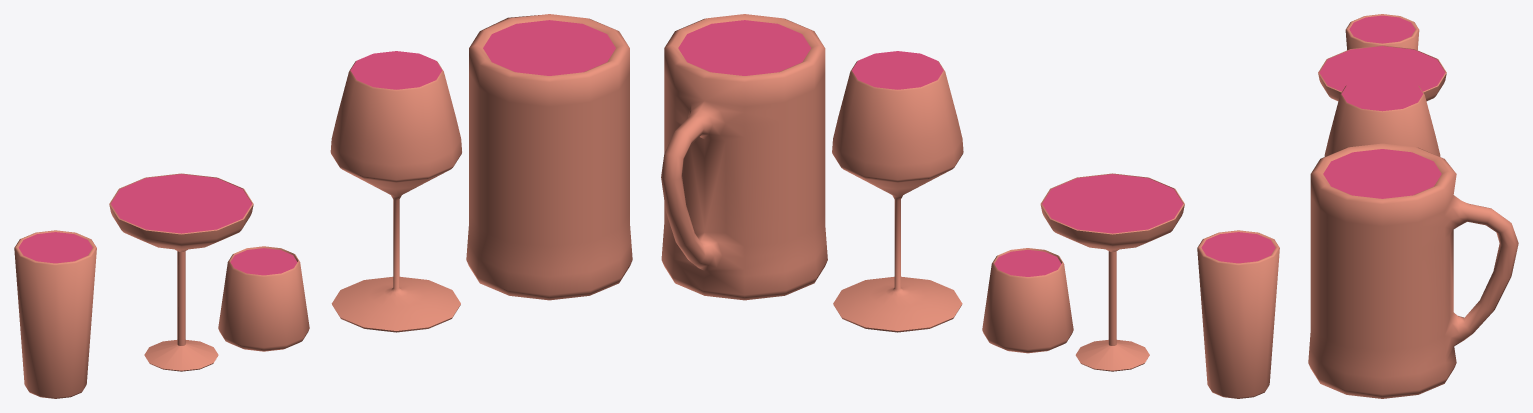
File: Bar Essentials.fbx
3 renders of one model, left to right at view 1: azimuth 30°, elevation 25°; view 2: azimuth 150°, elevation 25°; view 3: azimuth 270°, elevation 25°, orthographic. The views are drawn at different scales.
Visible parts, largest first — view 1: German Beer Glass, Wine Glass, Beer Tall Glass, Martini Glass, Whiskey Glass; view 2: German Beer Glass, Wine Glass, Beer Tall Glass, Martini Glass, Whiskey Glass; view 3: German Beer Glass, Wine Glass, Martini Glass, Beer Tall Glass.
Part boxes in pixels (<box>): German Beer Glass: <box>466,14,632,300</box>; Wine Glass: <box>330,51,461,332</box>; Beer Tall Glass: <box>14,230,96,398</box>; Martini Glass: <box>109,173,253,371</box>; Whiskey Glass: <box>218,246,309,351</box>; German Beer Glass: <box>661,14,827,300</box>; Wine Glass: <box>832,51,963,332</box>; Beer Tall Glass: <box>1197,230,1279,398</box>; Martini Glass: <box>1040,173,1184,371</box>; Whiskey Glass: <box>982,248,1073,353</box>; German Beer Glass: <box>1308,143,1518,398</box>; Wine Glass: <box>1324,76,1440,156</box>; Martini Glass: <box>1318,45,1446,101</box>; Beer Tall Glass: <box>1345,14,1419,50</box>.
Bounding box in the file's own units: 51.79 × 17.59 × 19.33.
